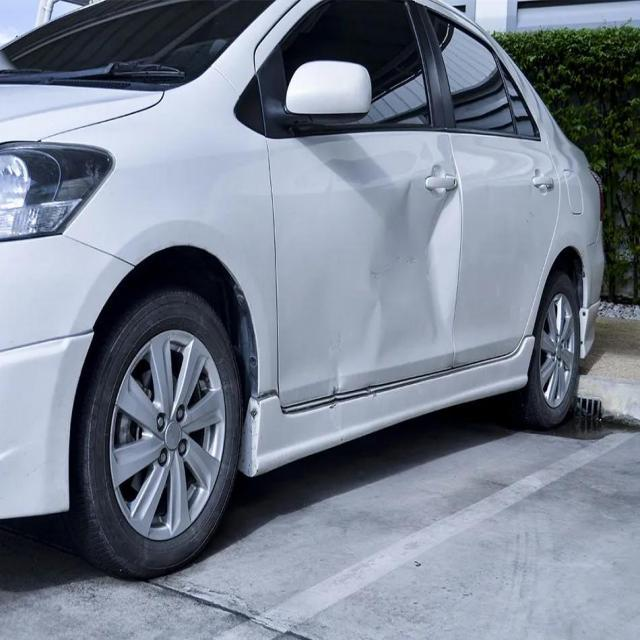dent: (312, 192, 462, 400)
